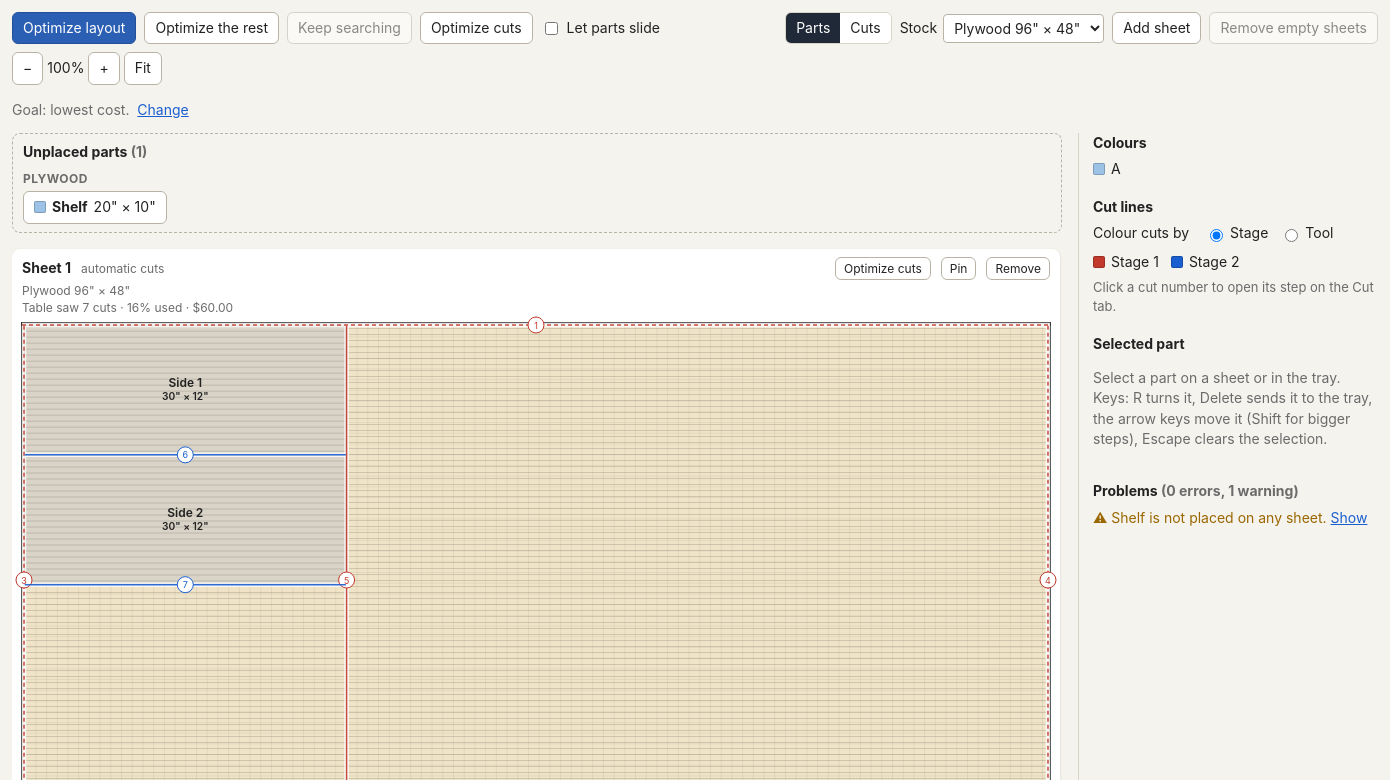
Test: Optimize cuts › says so when the cuts are already the best found
The image size is (1390, 780).
Click the button "Optimize cuts" next to "Let parts slide". click: (476, 28)
box: [420,12,532,44]
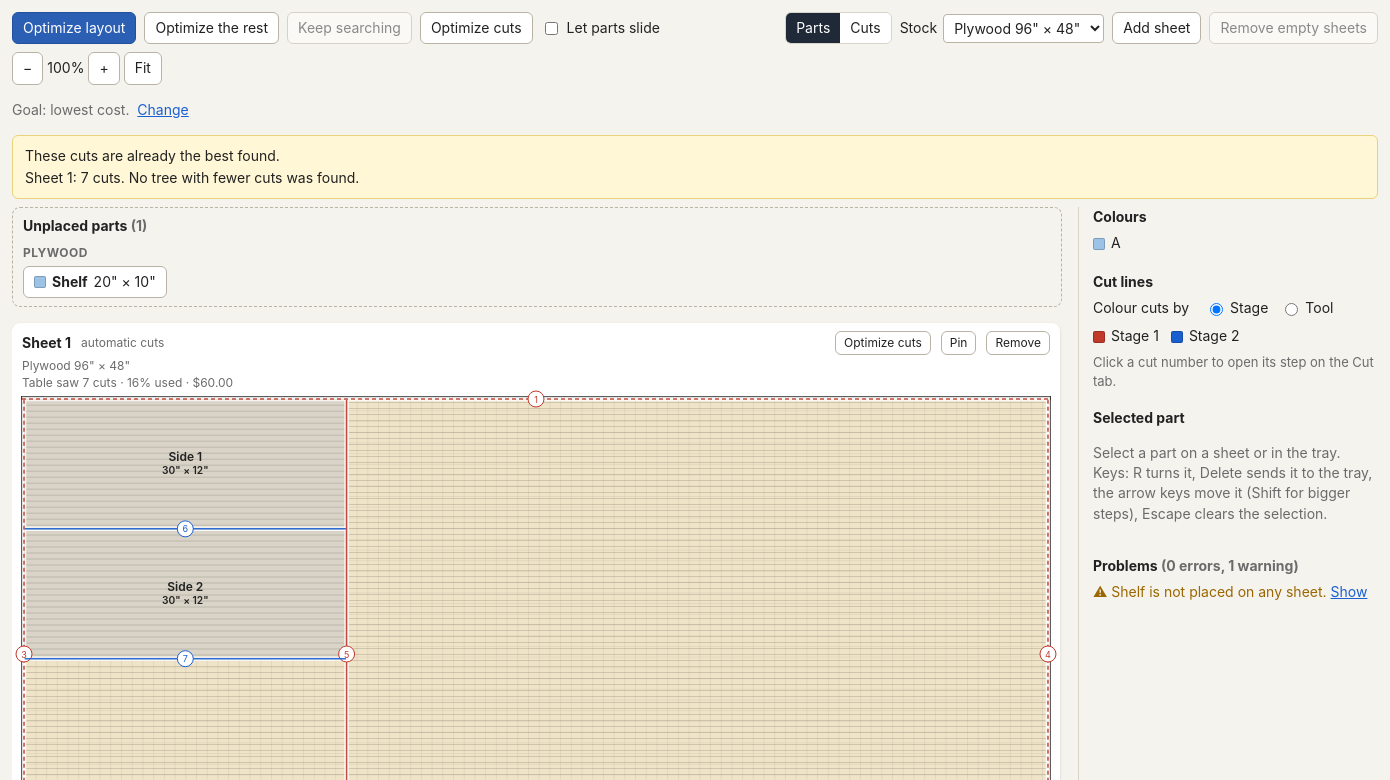
Result: the message shows "These cuts are already the best found." at [25,147,280,164]
